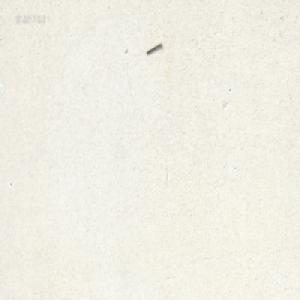Bolt: (145, 42, 161, 54)
